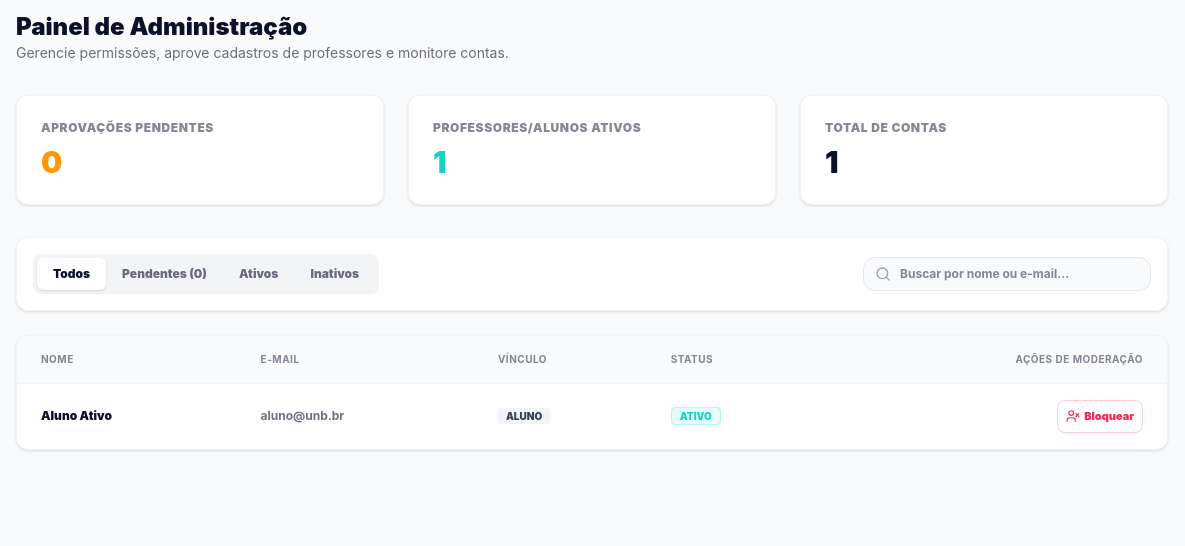
AdminDashboardPage › deve exibir erro ao falhar na alteração de status
Expected: the text "Aluno Ativo" is shown, [17,384,245,449]
Click the button "Bloquear" at (1100, 416), box [1057,400,1143,433]
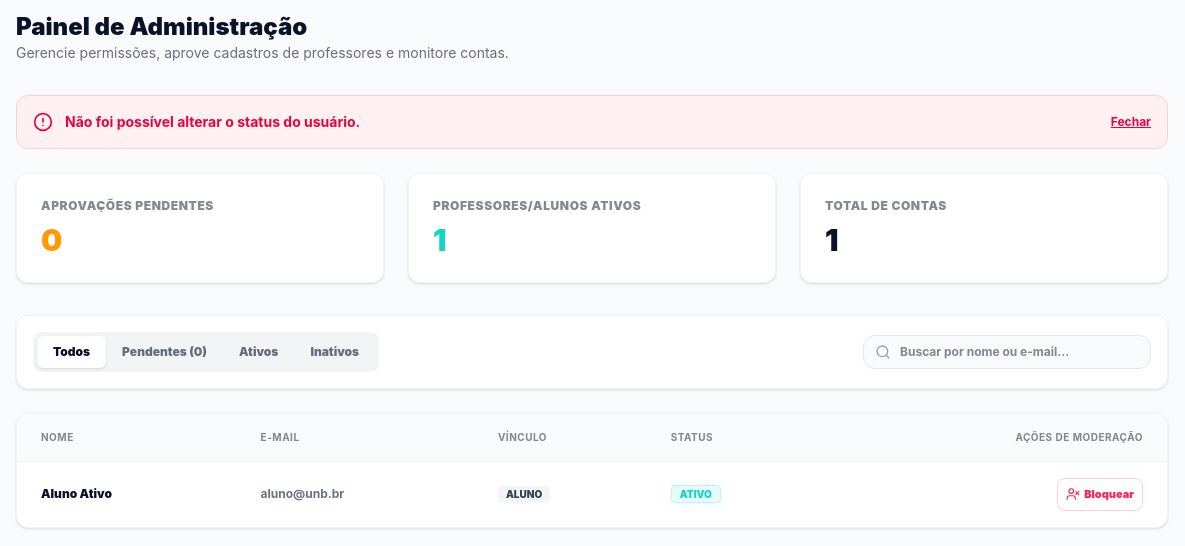
Expected: the text "Não foi possível alterar o status do usuário." is shown, [65,112,360,132]
